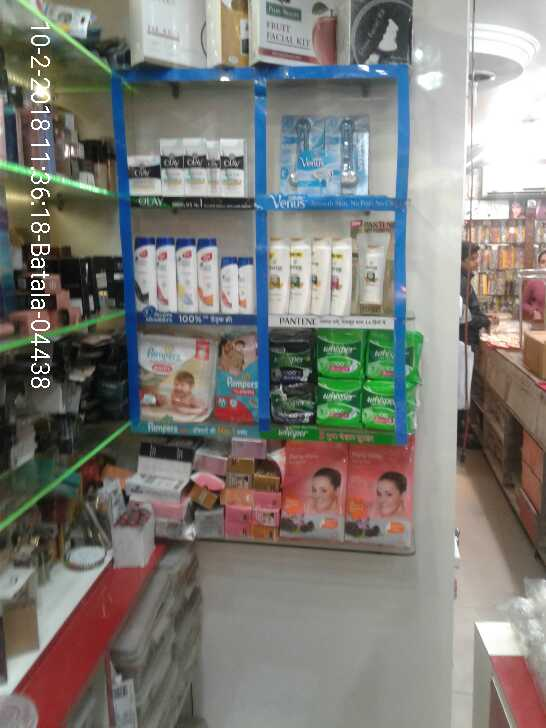venus: (297, 154, 337, 194), (341, 118, 364, 186), (281, 118, 321, 145)
